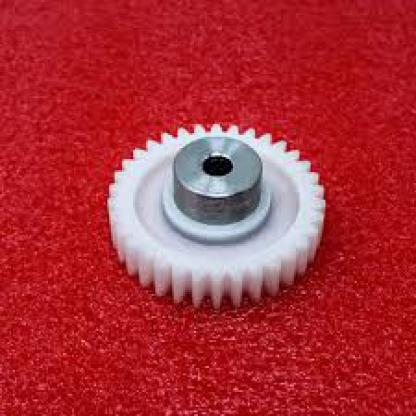FOD: (100, 110, 344, 319)
